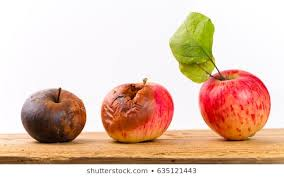damaged_apple: (200, 68, 271, 142), (100, 82, 174, 144), (17, 86, 89, 149)
